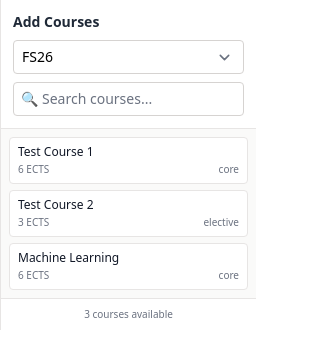
CoursePicker › search filtering › filters courses by name
Step 1. Type "Machine" into the field with placeholder "Search courses..." → coordinates (128, 99), box [13,82,244,116]
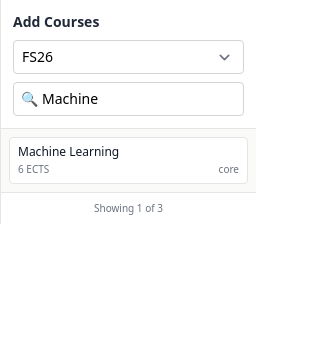
Expected: the text "Machine Learning" is shown, [18,143,119,160]
Expected: the button "Test Course 1" is gone
Expected: the button "Test Course 2" is gone
